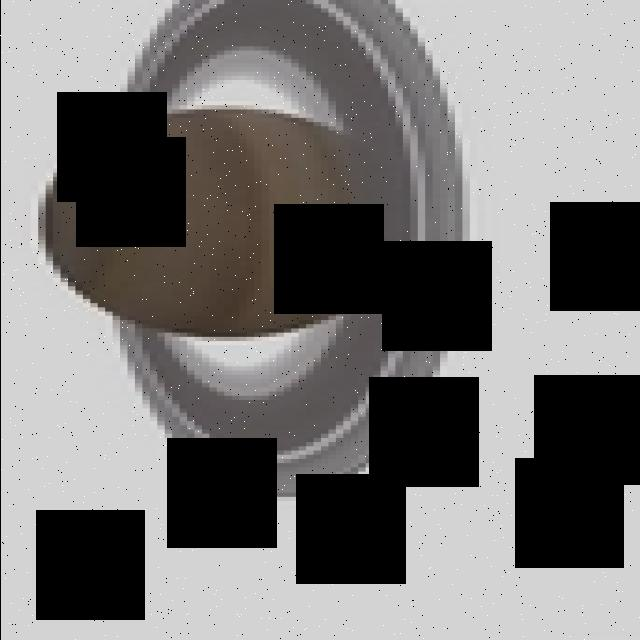Saturn: (37, 0, 469, 501)
